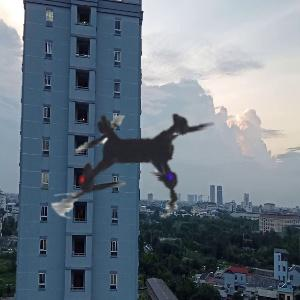drone: (1, 28, 268, 295)
